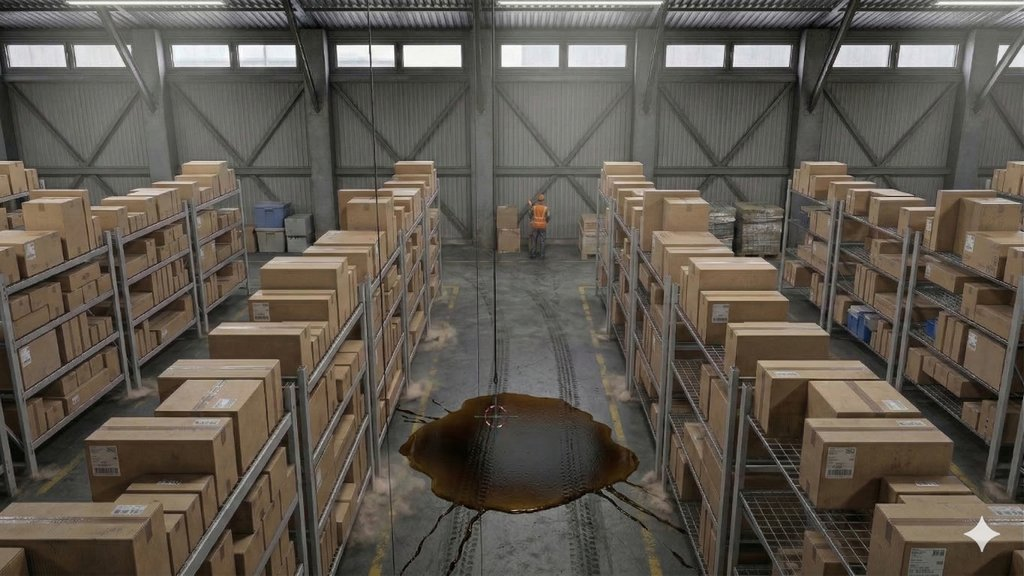empty_shelf: (742, 427, 805, 576)
person: (517, 189, 569, 258)
safety_vest: (528, 200, 560, 235)
spill: (388, 359, 655, 554)
